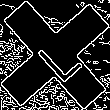L_NW: (27, 26, 83, 84)
